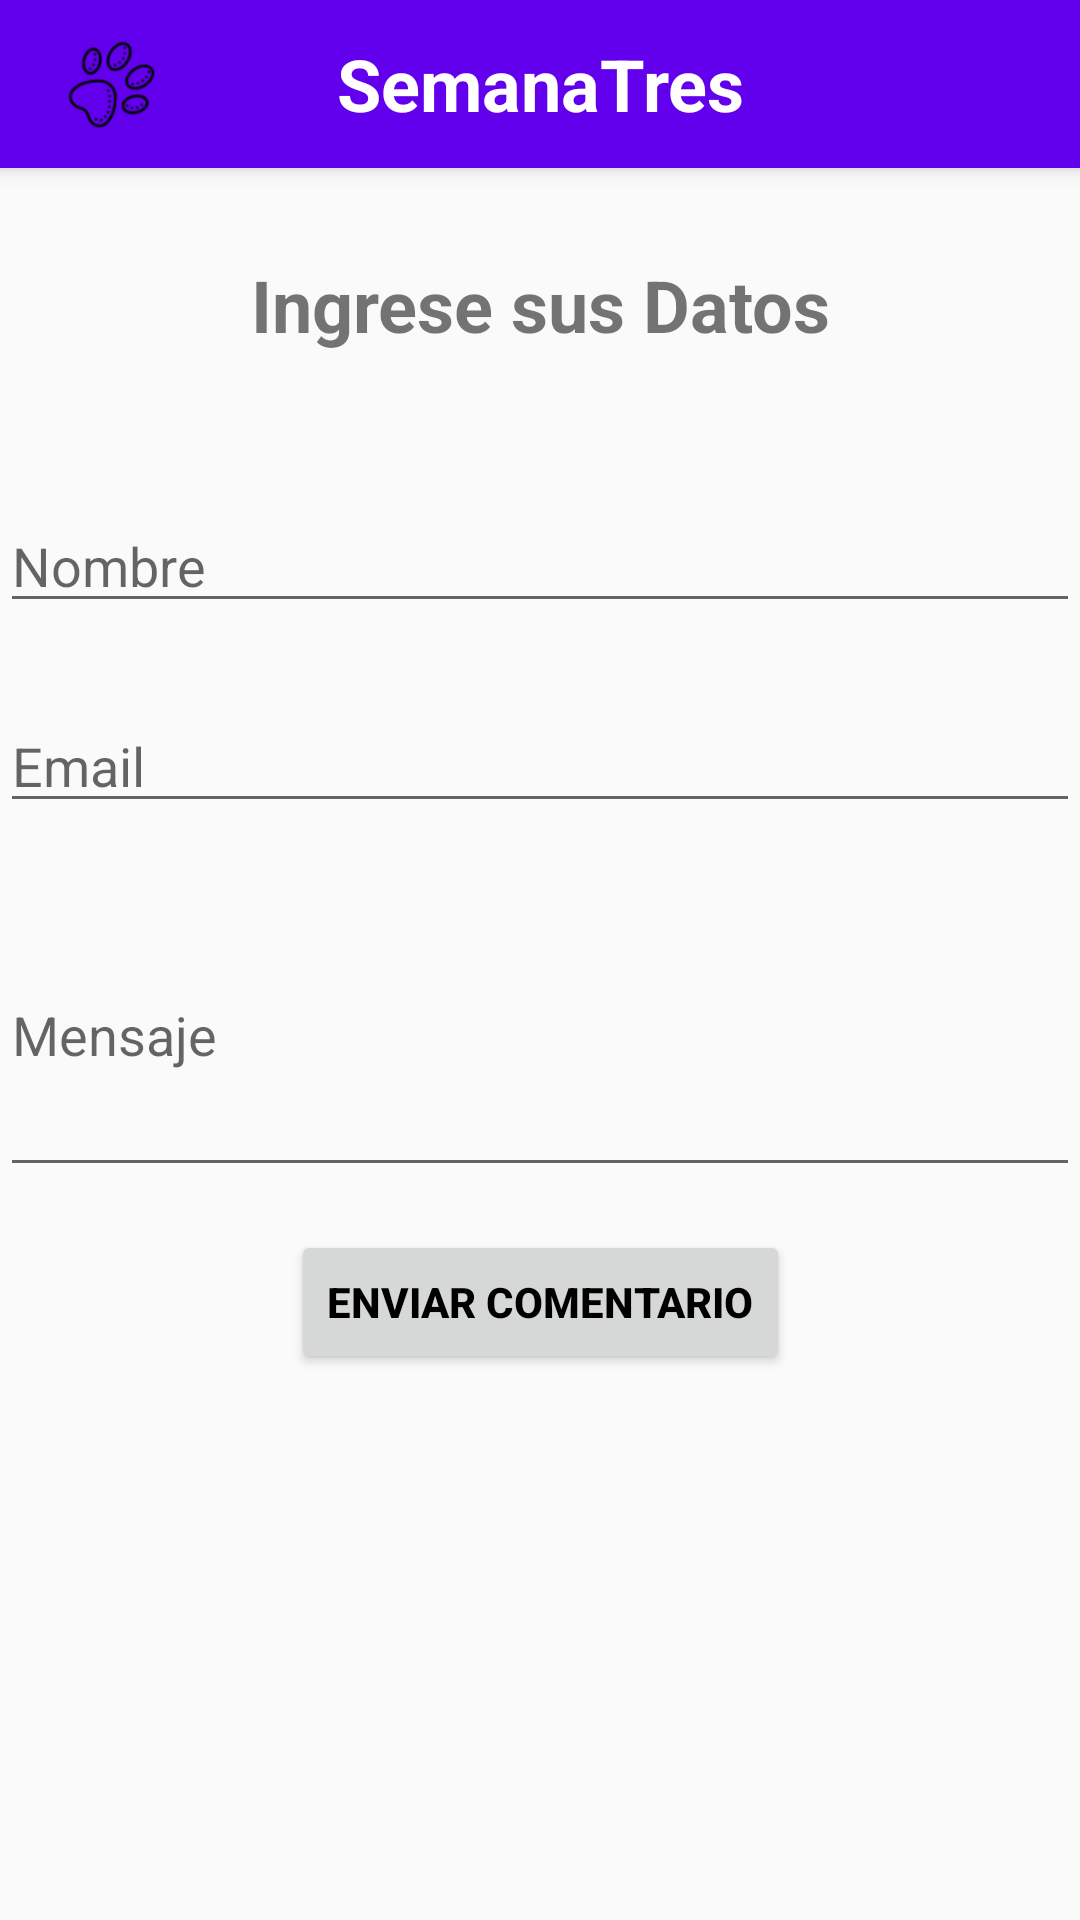

Screen size 1080*1920. Icon name, then its box in pixels as (x1=x1, y1=y1, x2=x2, y2=y2):
huella: (x1=68, y1=41, x2=155, y2=128)
